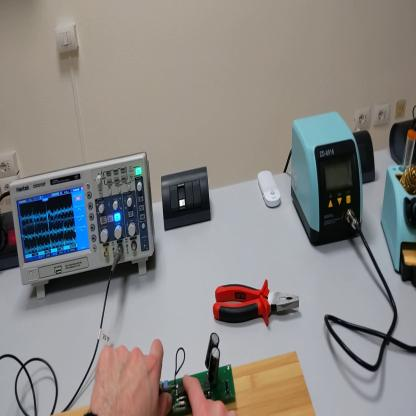hand: (89, 340, 171, 416), (186, 375, 236, 415)
high voltage board: (158, 337, 235, 410)
oscilloscope: (8, 149, 156, 298)
oscilloscope probe tip: (160, 386, 178, 398)
pliers: (211, 283, 303, 328)
socket: (390, 116, 416, 170), (1, 211, 20, 272), (357, 129, 377, 185)
welder base: (385, 131, 416, 286)
working area: (50, 352, 316, 415)
